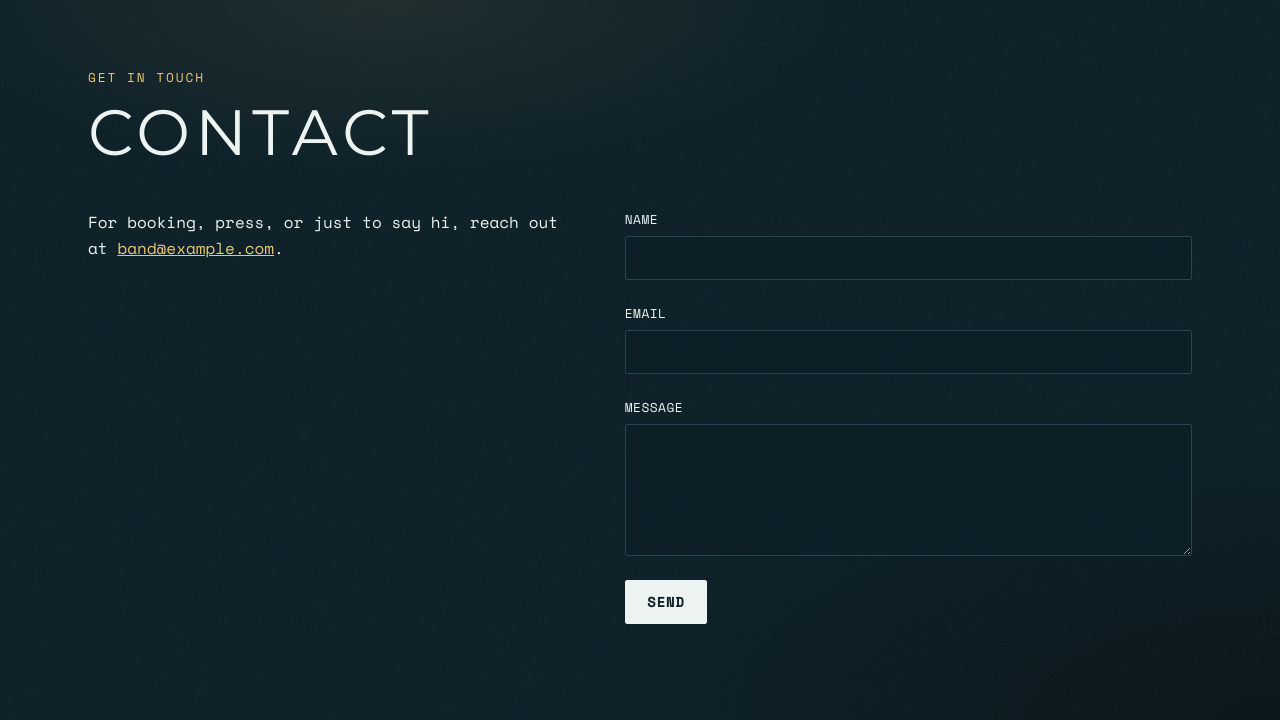
Scenario: Contact › shows a thank-you message when the API accepts the submission
This screenshot has width=1280, height=720.
Type "Jane" into the field labelled "Name". click: (908, 258)
box: [625, 236, 1192, 280]
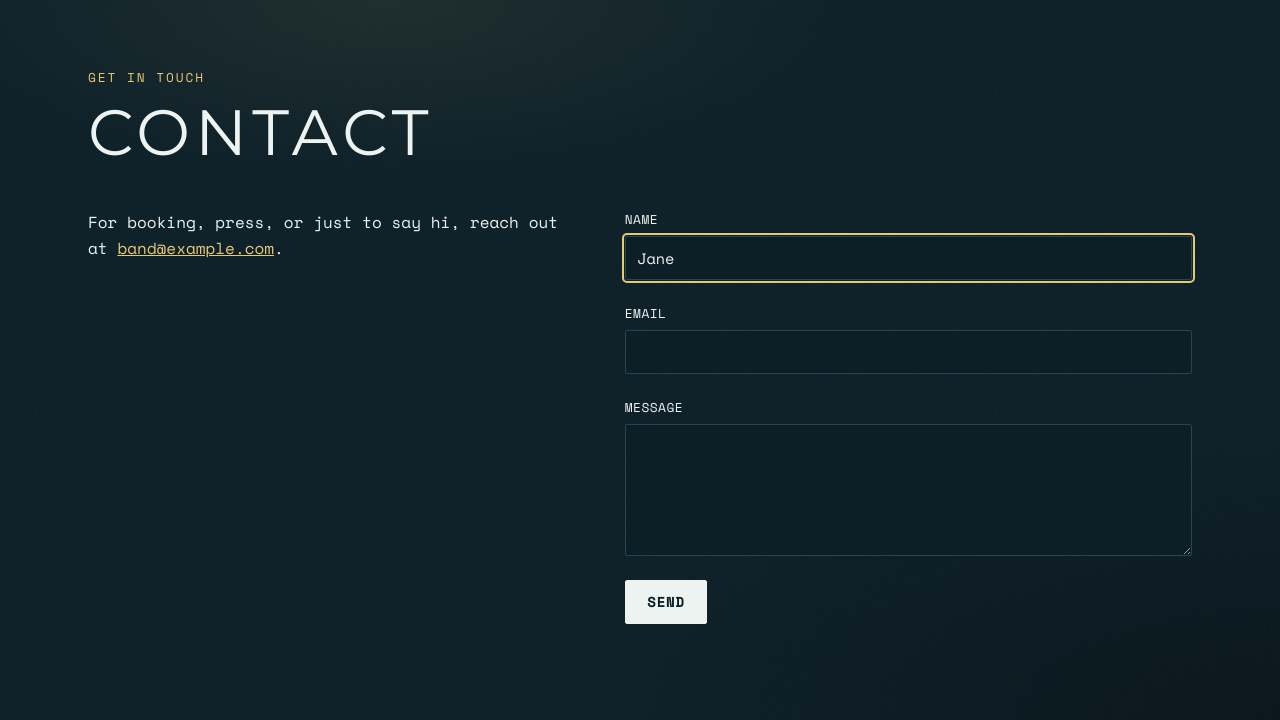
Type "jane@example.com" into the field labelled "Email". click: (908, 352)
box: [625, 330, 1192, 374]
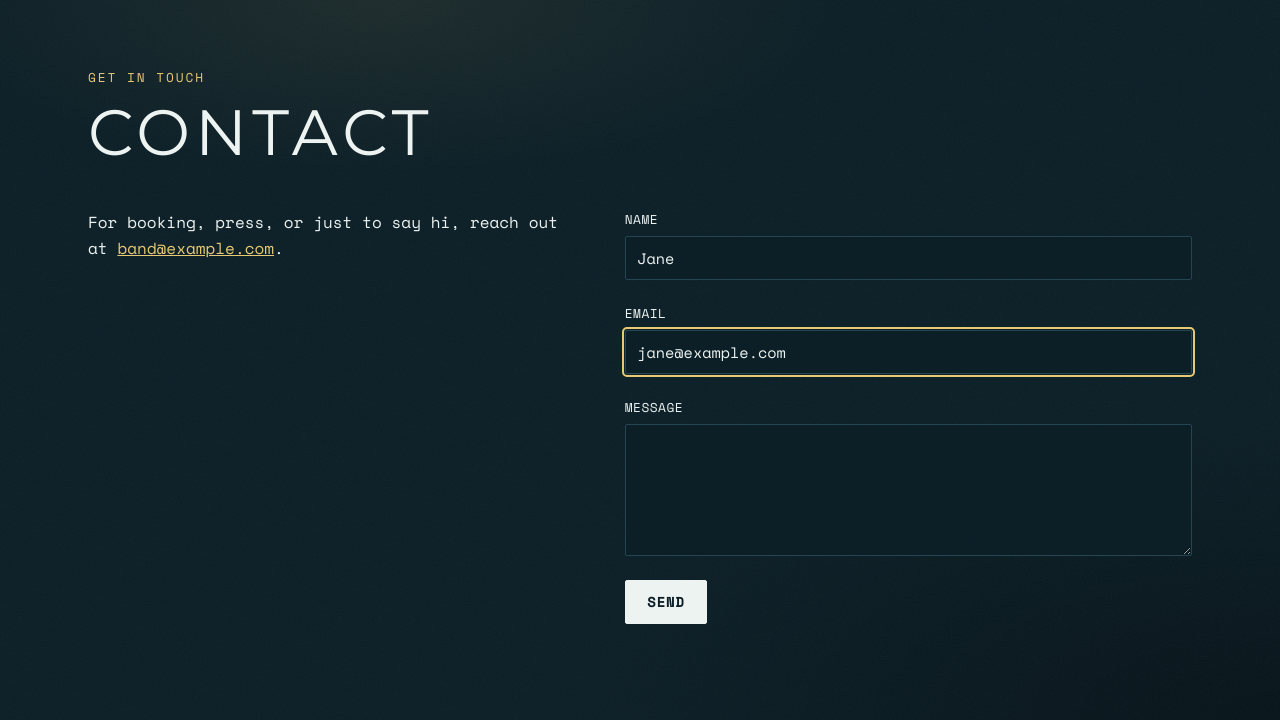
Type "Hello!" into the text box labelled "Message". click: (908, 490)
box: [625, 424, 1192, 556]
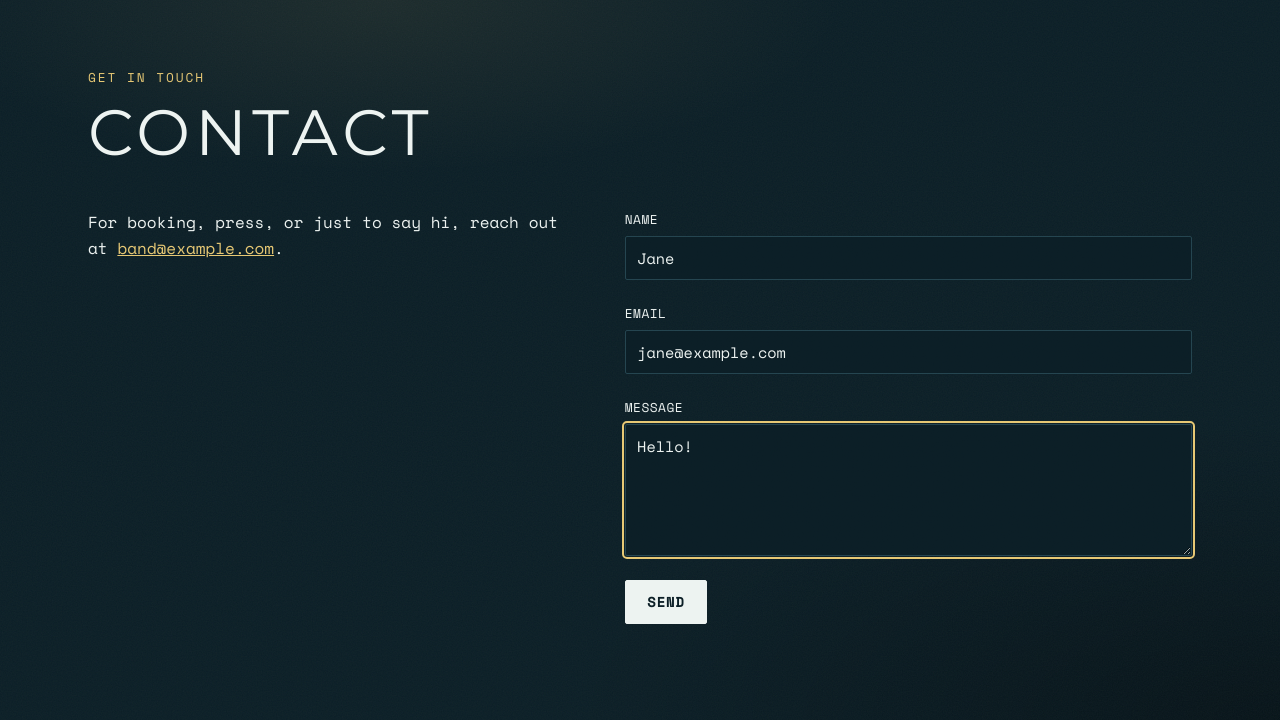
Click the button "Send". click: (666, 602)
box: [625, 580, 707, 624]
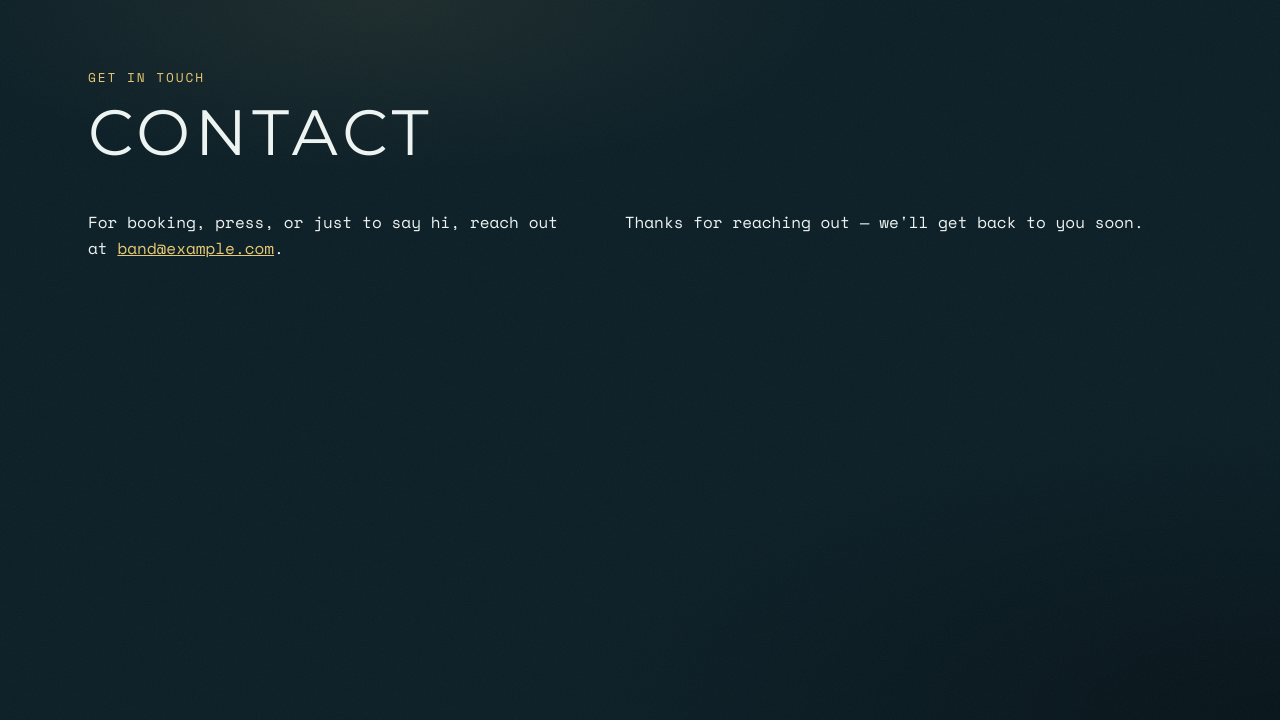
Expected: the message shows "Thanks for reaching out", [625, 210, 1144, 234]
